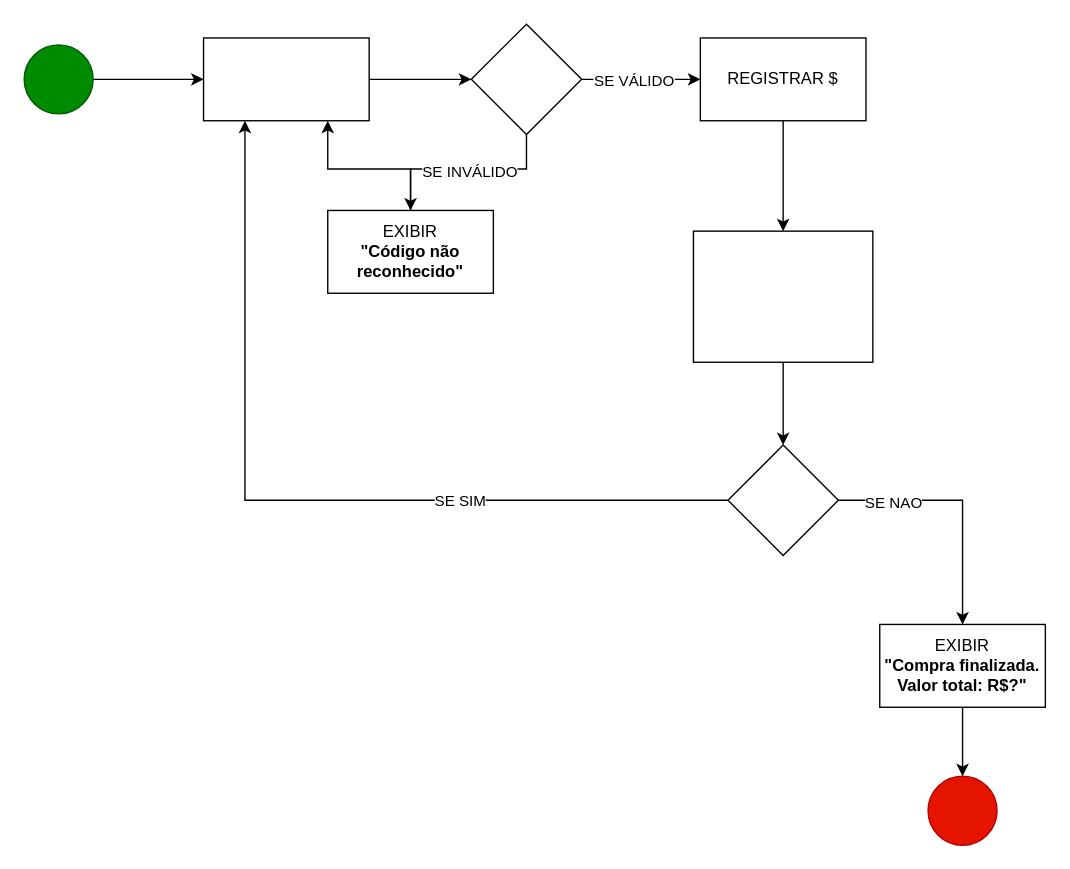
This 1070x869 diagram has some shape labels left out. Each missing label, with the centre of its shape:
EXIBIR "informar outro código de produto ou finalizar compra": point 782,296
LER CODIGO PRODUTO: point 285,79
